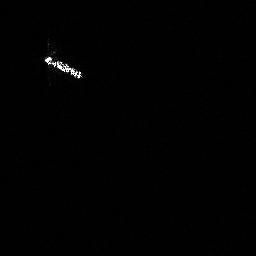ship: (41, 53, 86, 82)
